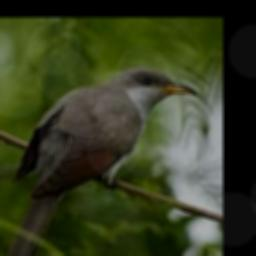Cuckoo: (2, 67, 196, 256)
